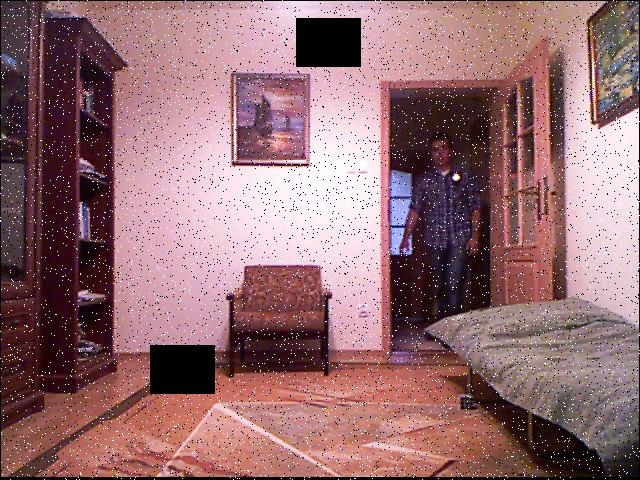standing: (407, 131, 483, 312)
